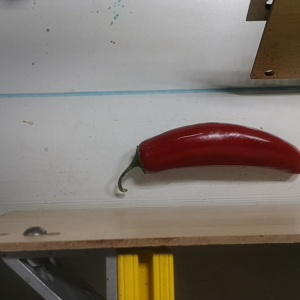Cut Point: (129, 140, 157, 176)
